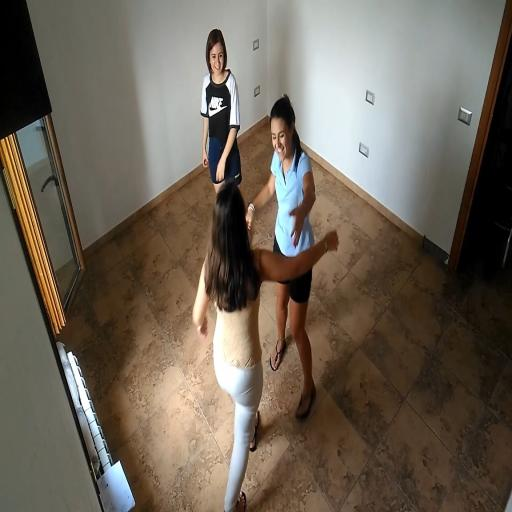nao-violencia: (184, 91, 346, 512)
